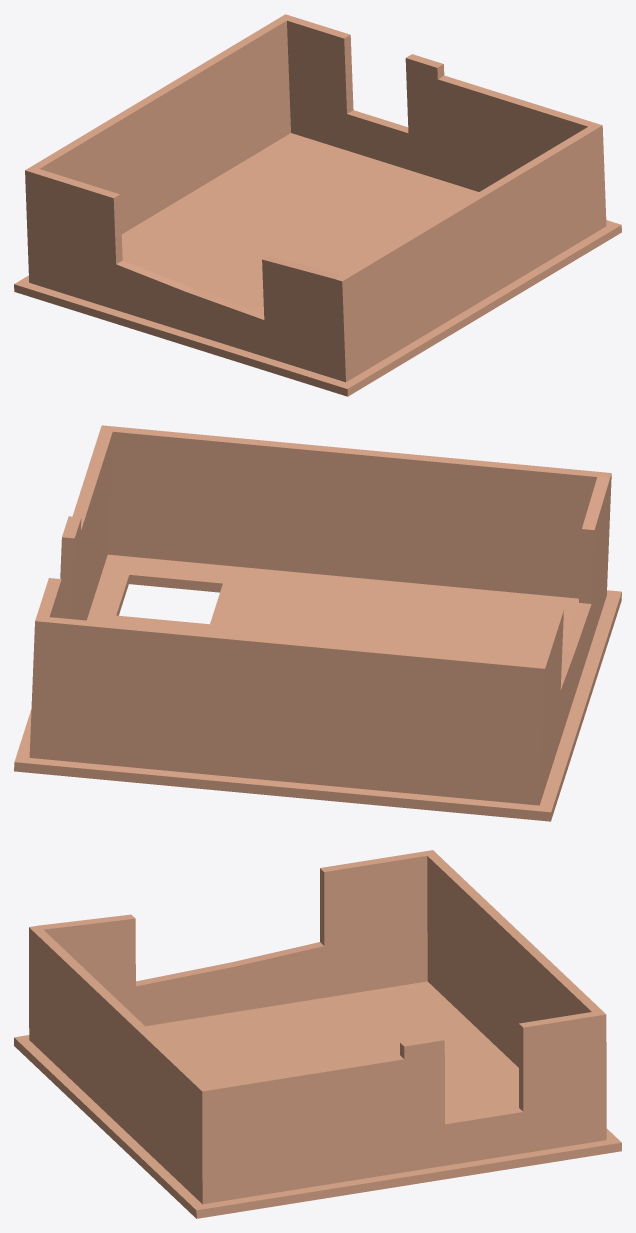
The model's file is TreehouseBodyFBX.fbx.
The picture shows the model from 3 angles, top to bottom: view 1: azimuth 30°, elevation 25°; view 2: azimuth 150°, elevation 25°; view 3: azimuth 270°, elevation 25°; orthographic projection. The views are drawn at different scales.
Visible parts, largest first — view 1: BaseFrame; view 2: BaseFrame; view 3: BaseFrame.
Boxes of the visible parts, left/top/right/bottom form: BaseFrame: left=14, top=14, right=621, bottom=396; BaseFrame: left=14, top=425, right=621, bottom=821; BaseFrame: left=14, top=850, right=621, bottom=1218.
Size of the model in its own units: 1858 by 497 by 1815.
